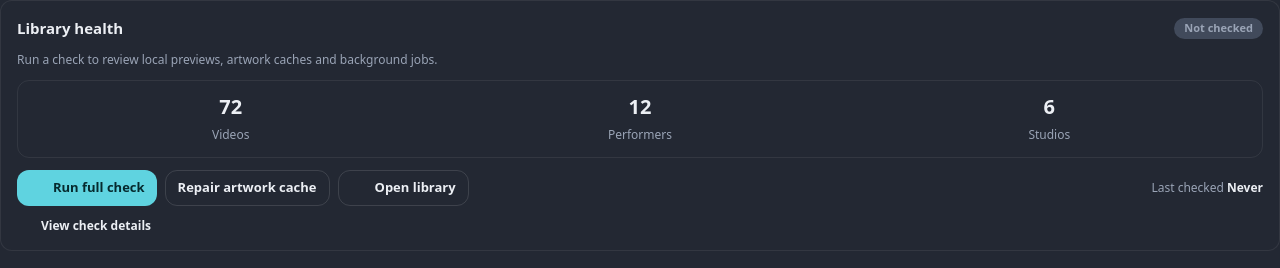
LibraryHealth › says healthy when nothing is found
Click the button "Run full check" at (87, 188), box [17,170,157,206]
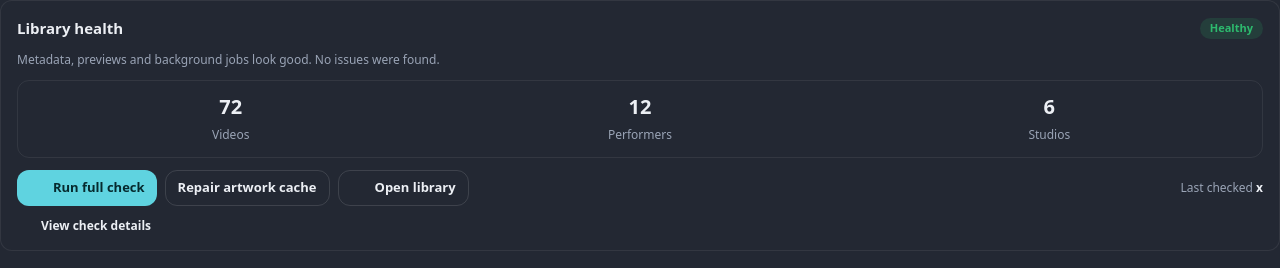
expect the text "Healthy" is shown: met, box [1200,18,1263,38]
expect the text "No issues were found" is shown: met, box [17,50,440,68]
